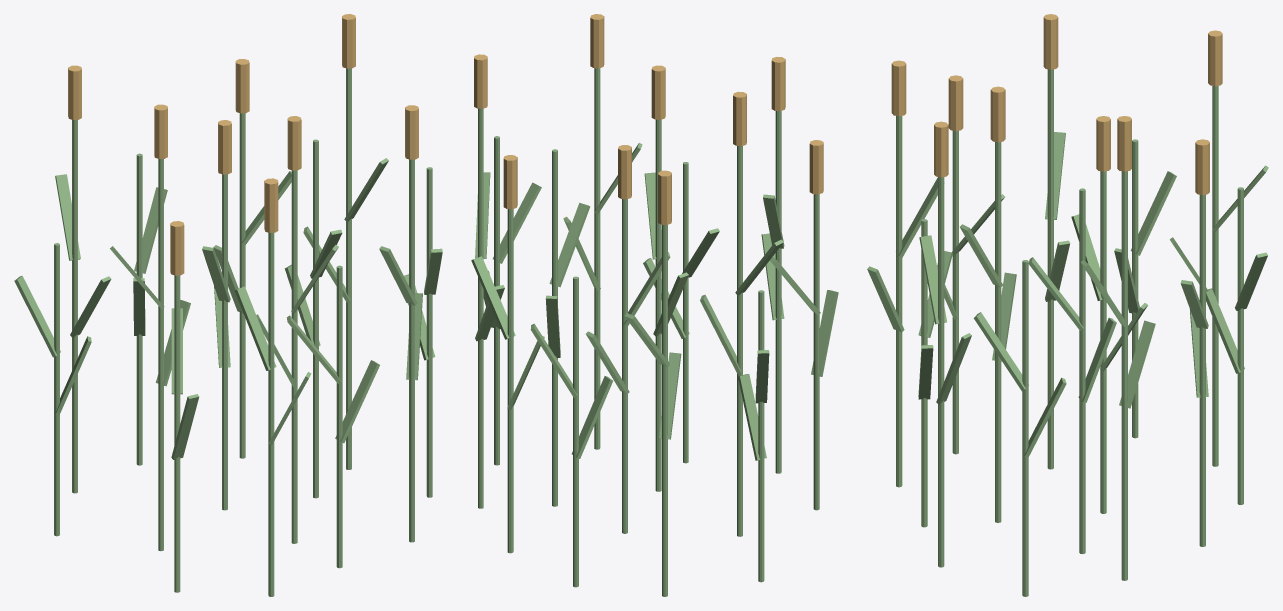
File: canal_reed.glb
The picture shows the model from 3 angles, left to right: view 1: azimuth 30°, elevation 25°; view 2: azimuth 150°, elevation 25°; view 3: azimuth 270°, elevation 25°; orthographic projection. The views are drawn at different scales.
Visible parts, largest first — view 1: CanalReed; view 2: CanalReed; view 3: CanalReed.
Part boxes in pixels (x1,y1,x2,y2): CanalReed: (14, 14, 442, 596); CanalReed: (471, 14, 838, 596); CanalReed: (867, 14, 1268, 596).
Bounding box in the file's own units: 0.195 × 0.241 × 0.1905.
